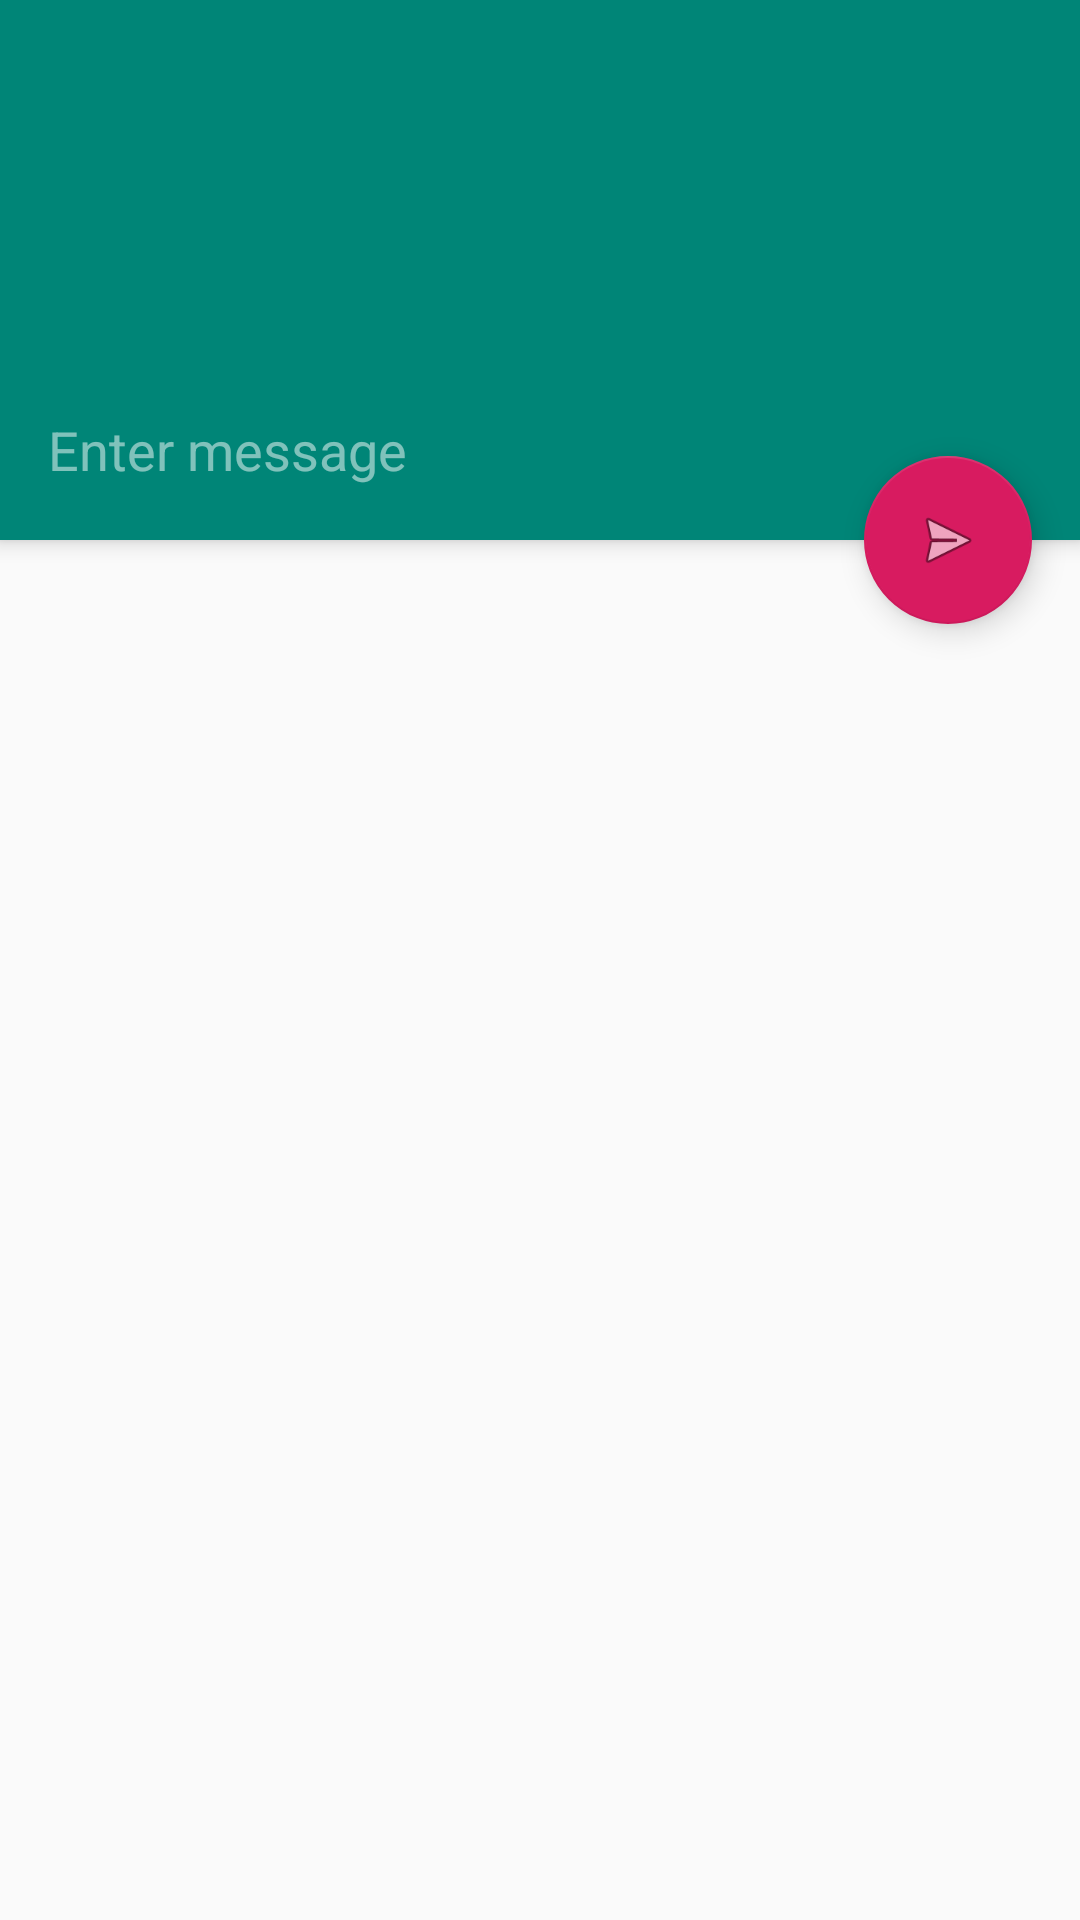

Point at icon controls on the screen. Image size 1080*1920, points as [x,y].
send: [948,540]
